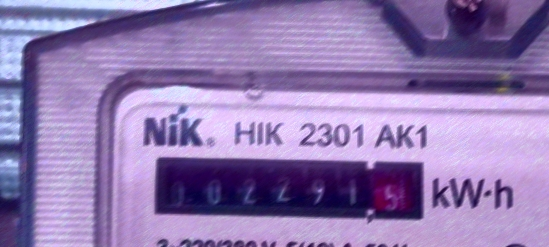0: (168, 177, 187, 206), (206, 177, 223, 206)
1: (345, 175, 360, 209)
2: (241, 176, 258, 206), (276, 174, 291, 203)
5: (383, 182, 400, 212)
9: (310, 176, 327, 206)
screen: (151, 150, 429, 228)
